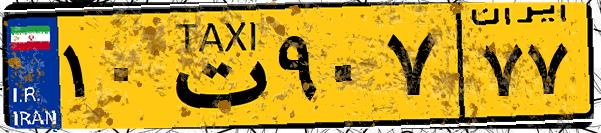0: (330, 28, 385, 110), (110, 28, 158, 98)
1: (57, 26, 110, 100)
7: (385, 28, 445, 110), (475, 38, 525, 113), (525, 38, 570, 115)
9: (270, 28, 330, 110)
ت: (158, 12, 270, 120)
